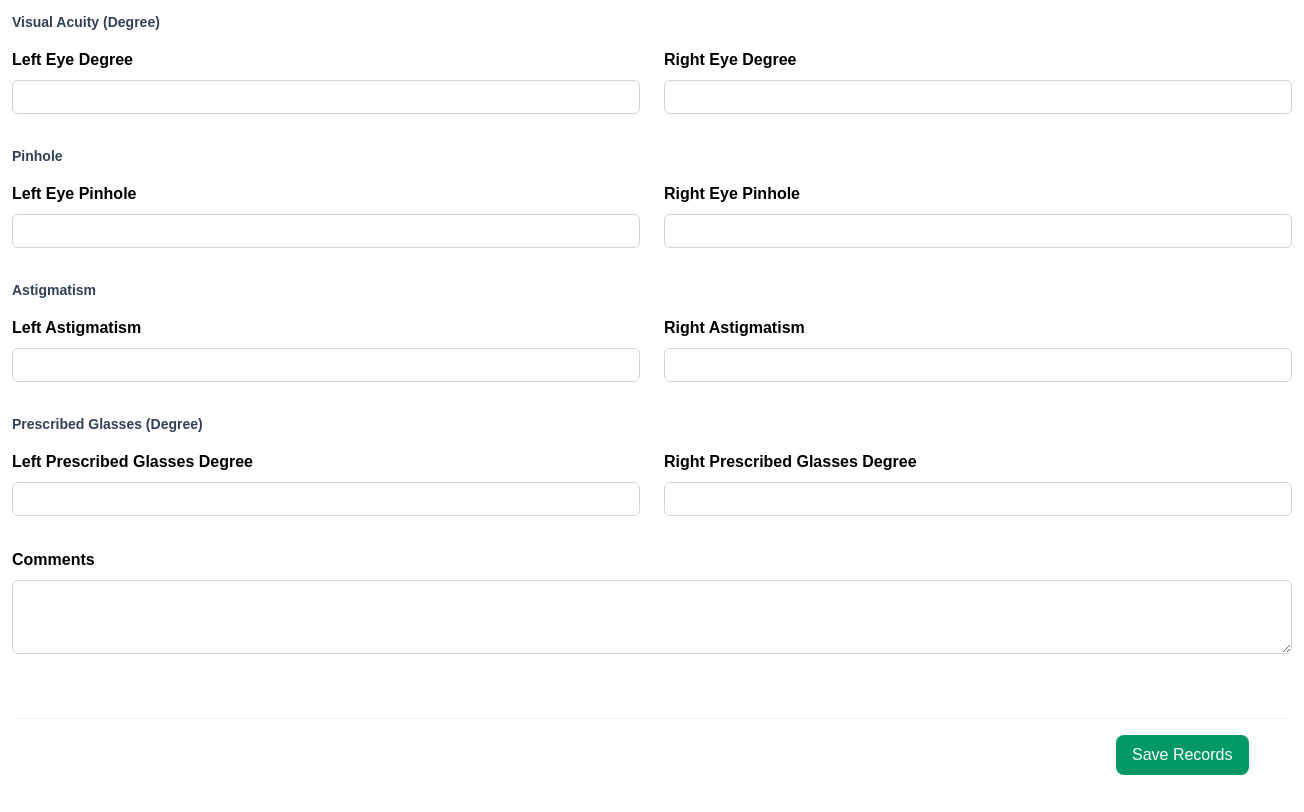
Test: EyesightForm › rejects NI in the rightEyeDegree field
# the user enters NI in a degree field, where it is pinhole-only, and submits
Type "NI" into the field labelled "Right Eye Degree" at (978, 97), box [664,80,1292,114]
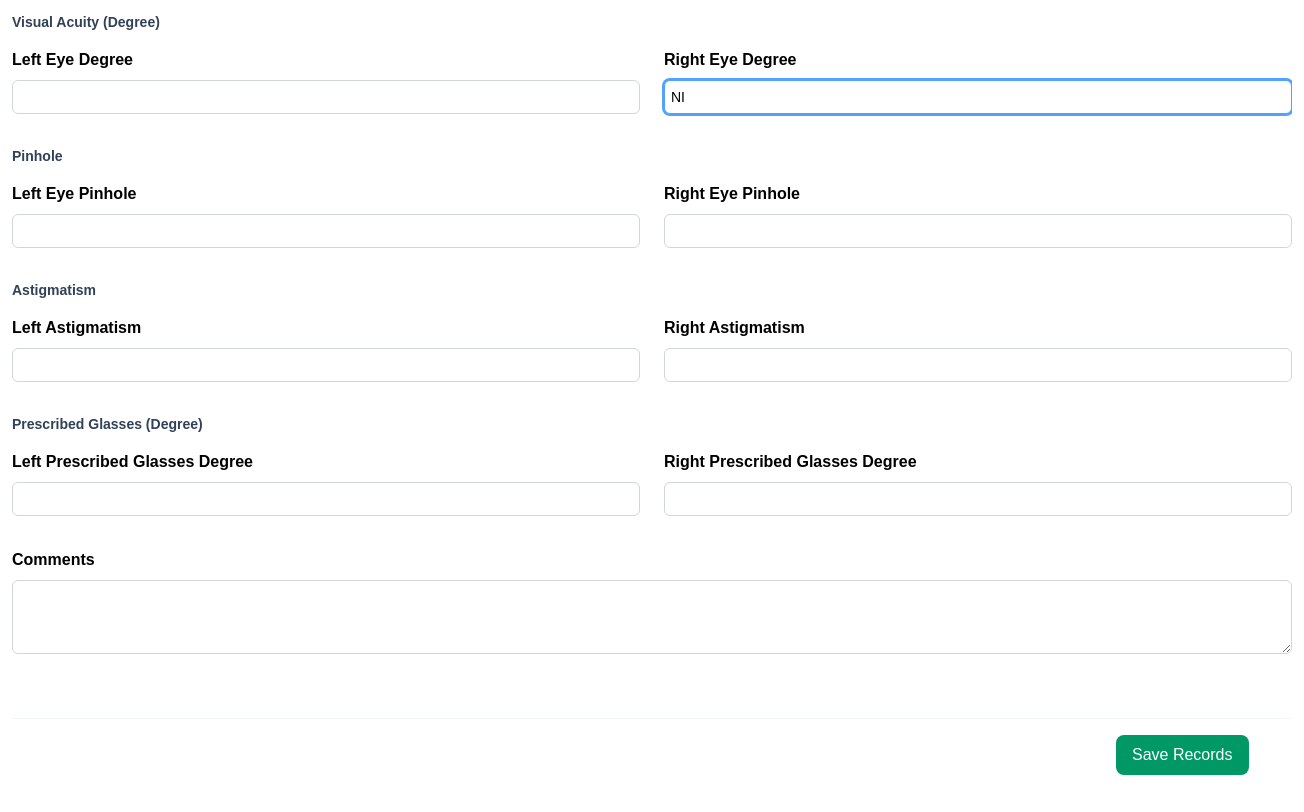
Click the button "Save Records" at (1182, 755), box [1116,735,1248,775]
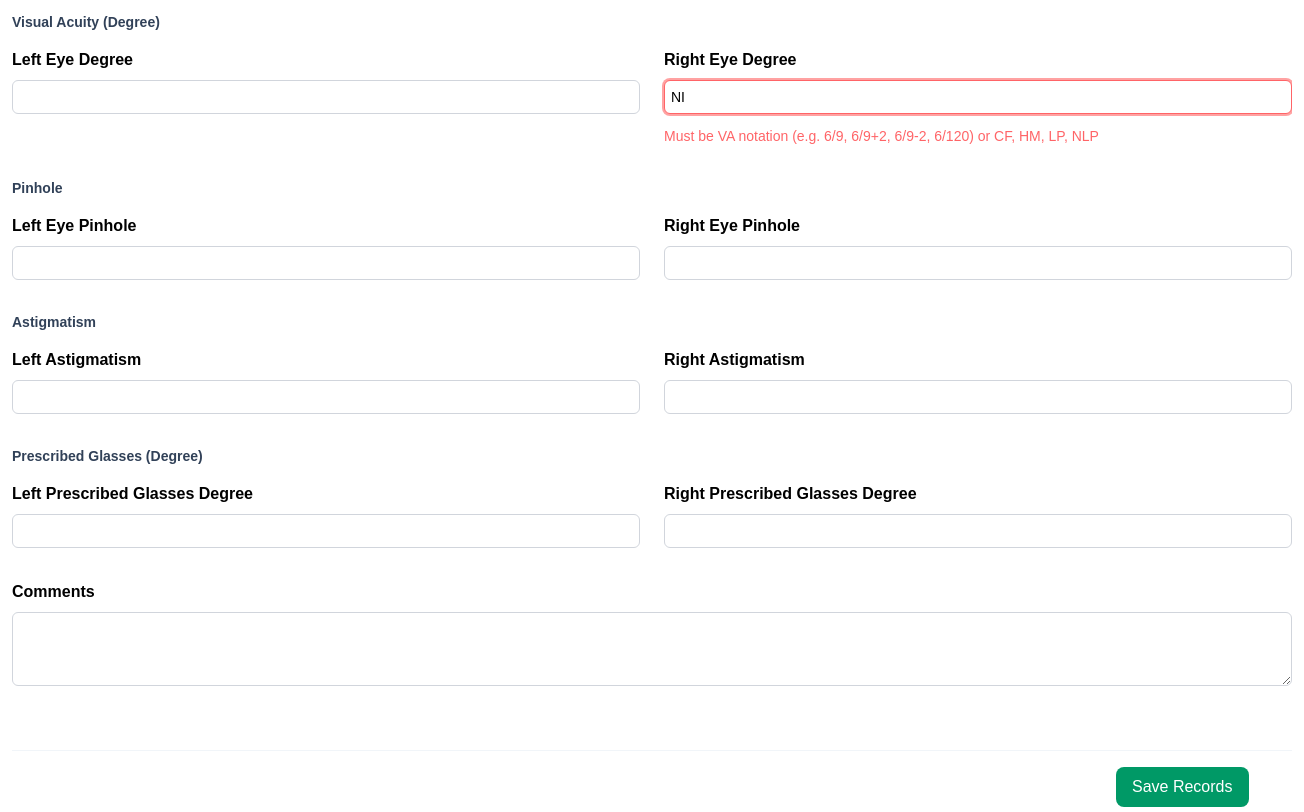
Expected: the text "Must be VA notation" is shown, [664,128,1099,144]
